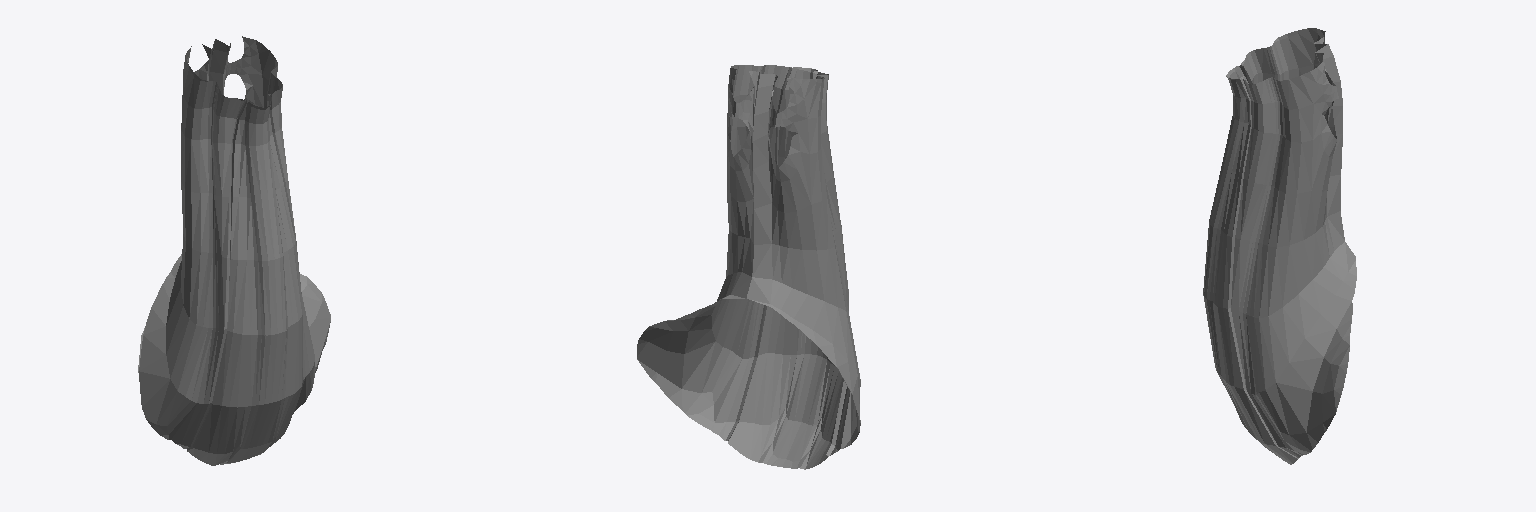
File: neck_dragon_low.obj
The picture shows the model from 3 angles: view 1: azimuth 30°, elevation 25°; view 2: azimuth 150°, elevation 25°; view 3: azimuth 270°, elevation 25°; orthographic projection.
Visible parts, largest first — view 1: Cube.001_Cube.006; view 2: Cube.001_Cube.006; view 3: Cube.001_Cube.006.
Part boxes in pixels (bbox=[...]): Cube.001_Cube.006: bbox=[138, 36, 330, 465]; Cube.001_Cube.006: bbox=[637, 65, 860, 469]; Cube.001_Cube.006: bbox=[1203, 28, 1356, 464].
Size of the model in its own units: 1.41 by 2.67 by 0.9075.